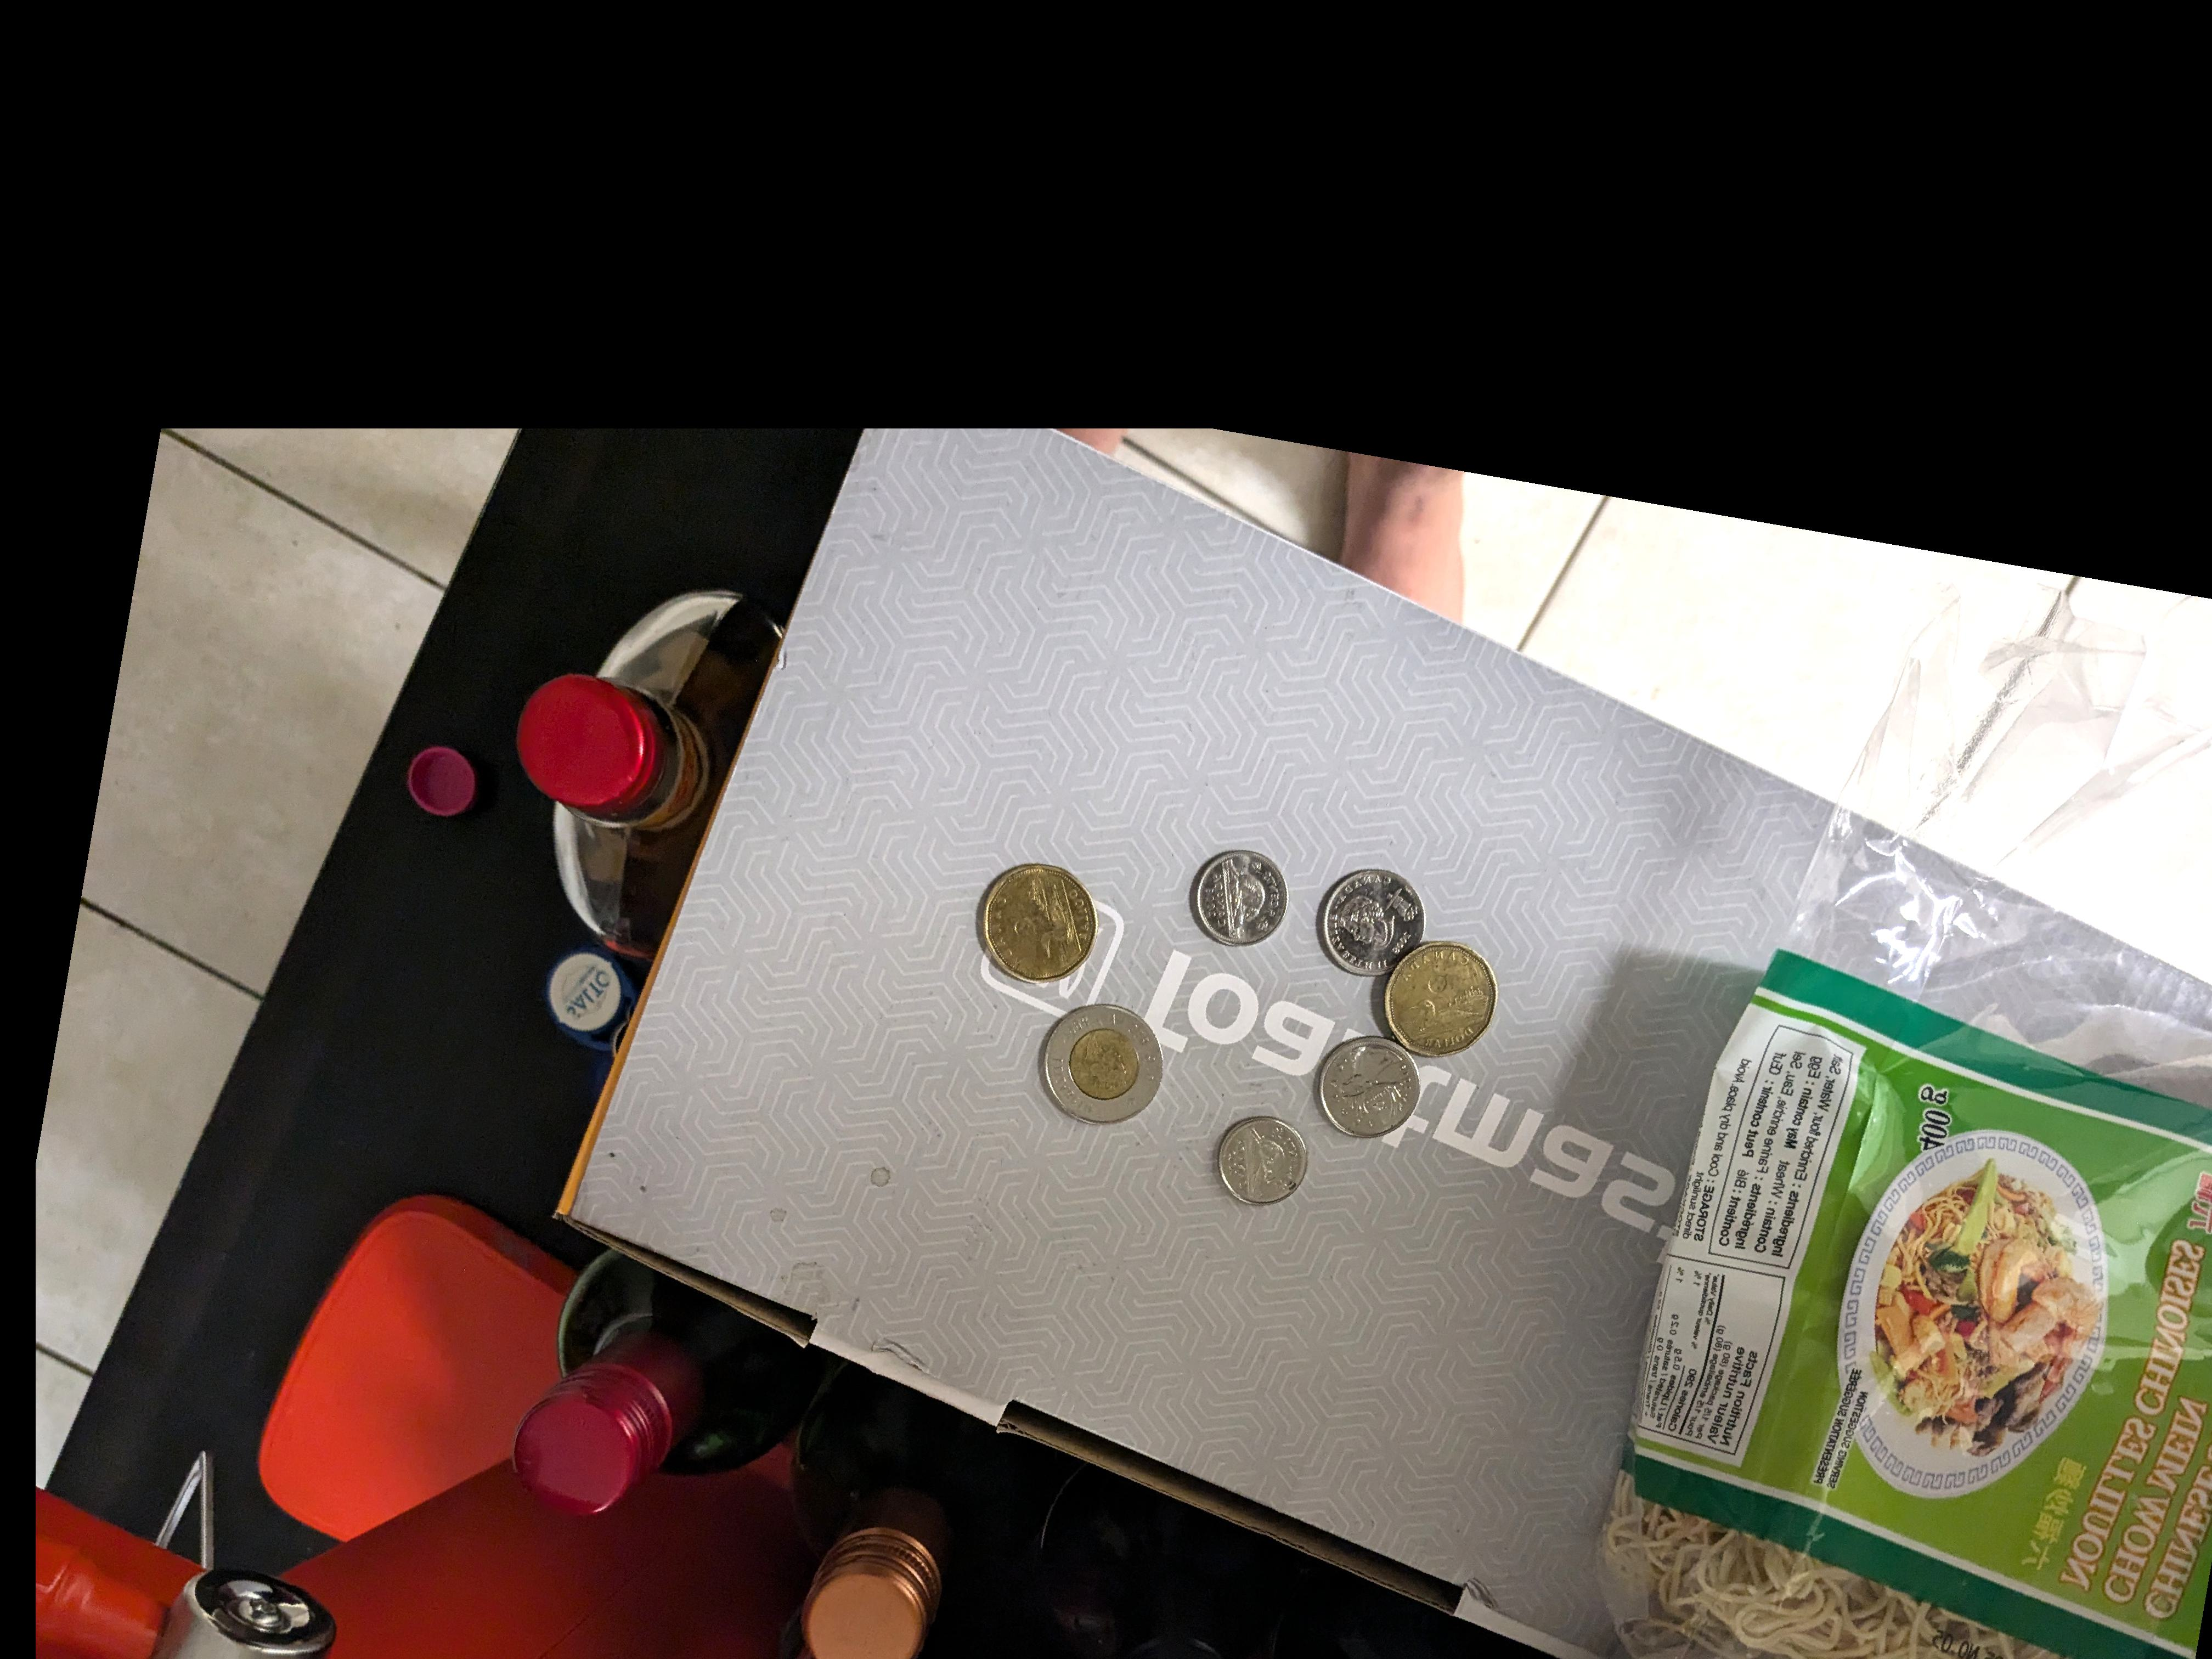loonie: (975, 861, 1099, 986), (1379, 943, 1501, 1053)
nickel: (1188, 847, 1292, 950), (1211, 1114, 1310, 1211)
quarter: (1318, 868, 1428, 971), (1315, 1039, 1423, 1136)
toonie: (1036, 999, 1170, 1124)
